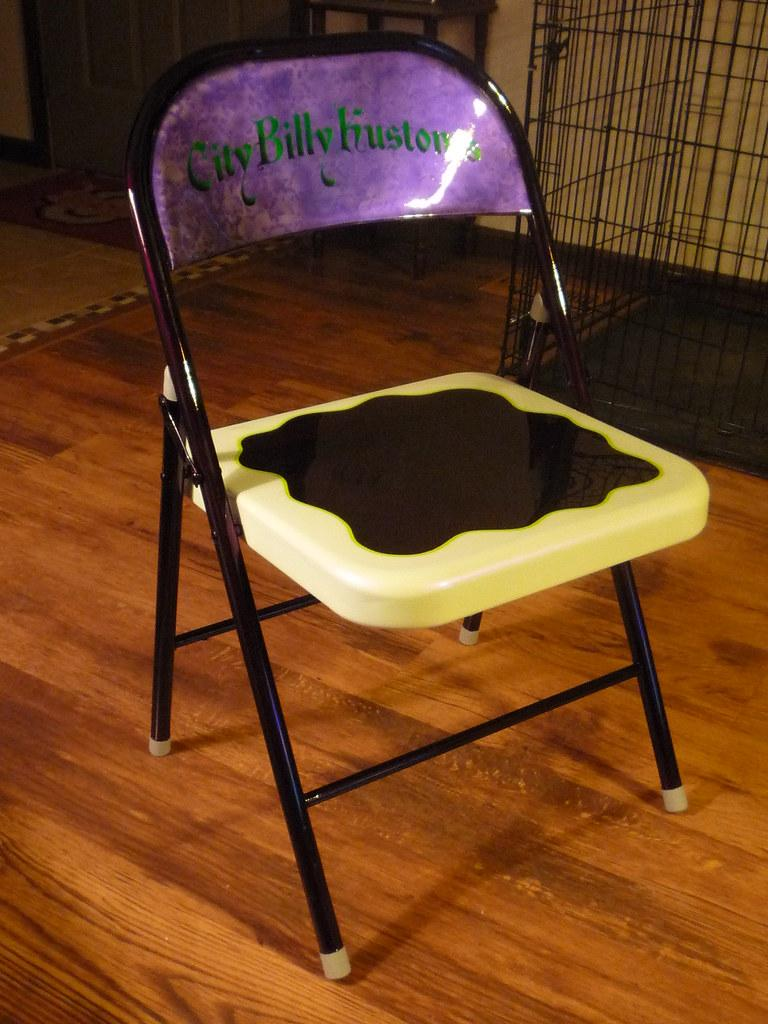chair: (125, 30, 711, 981)
